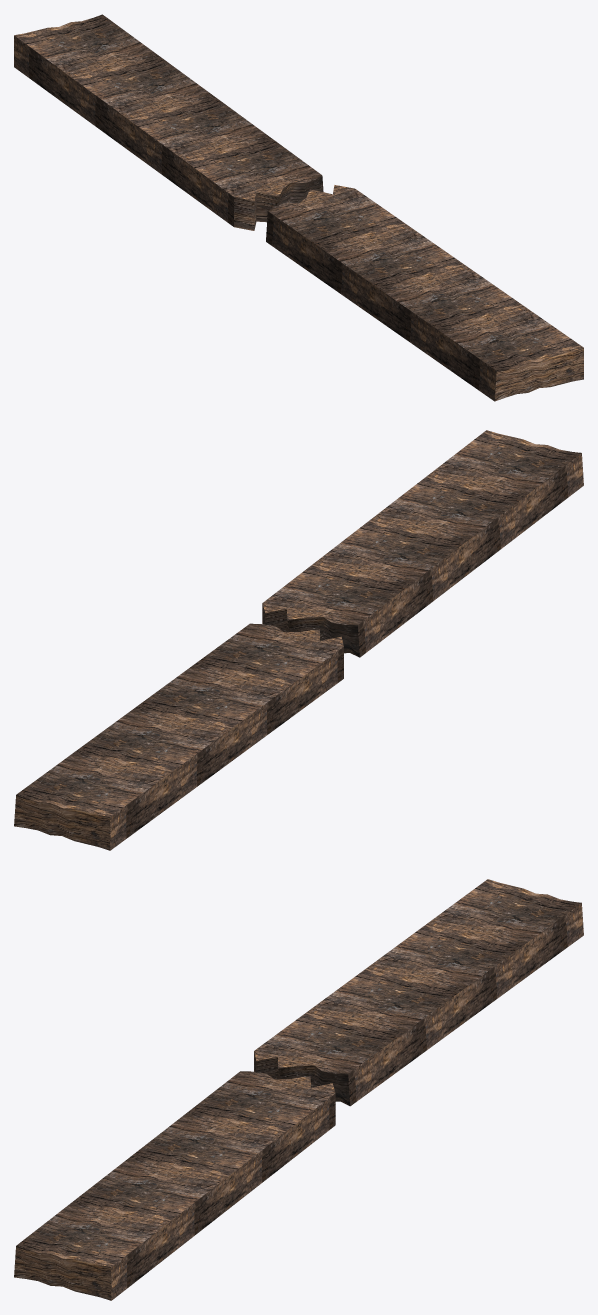
The model's file is brickslogs.fbx.
The picture shows the model from 3 angles, top to bottom: view 1: azimuth 30°, elevation 25°; view 2: azimuth 150°, elevation 25°; view 3: azimuth 330°, elevation 25°; orthographic projection. The views are drawn at different scales.
Parts seen in each view (by area): view 1: pCube60, pCube59; view 2: pCube59, pCube60; view 3: pCube60, pCube59.
Part boxes in pixels (x1=…): pCube60: x1=266, y1=185, x2=583, y2=401; pCube59: x1=14, y1=14, x2=323, y2=230; pCube59: x1=14, y1=623, x2=343, y2=850; pCube60: x1=262, y1=430, x2=583, y2=657; pCube60: x1=14, y1=1071, x2=335, y2=1300; pCube59: x1=254, y1=879, x2=583, y2=1106.
Size of the model in its own units: 0.0474 by 0.0136 by 0.3524.
